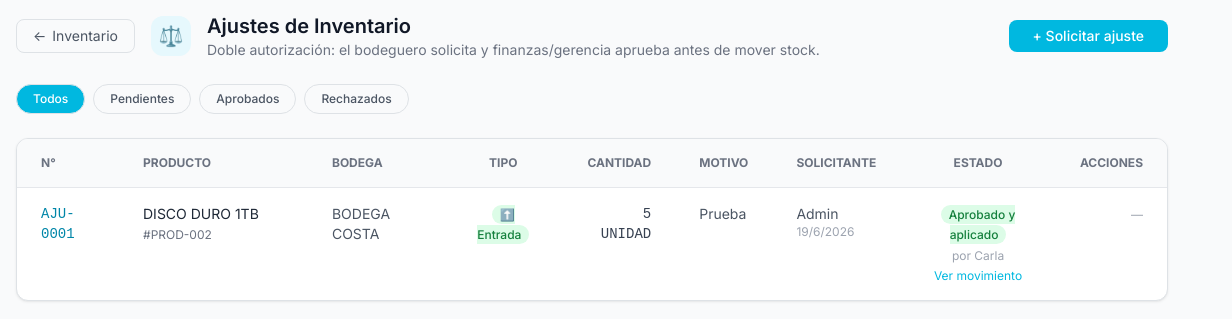
InventoryAdjustmentsPage › muestra un toast de error si el movimiento vinculado ya no existe (404)
Click the button "Ver movimiento" at {"x": 978, "y": 276}, box [934, 268, 1022, 284]
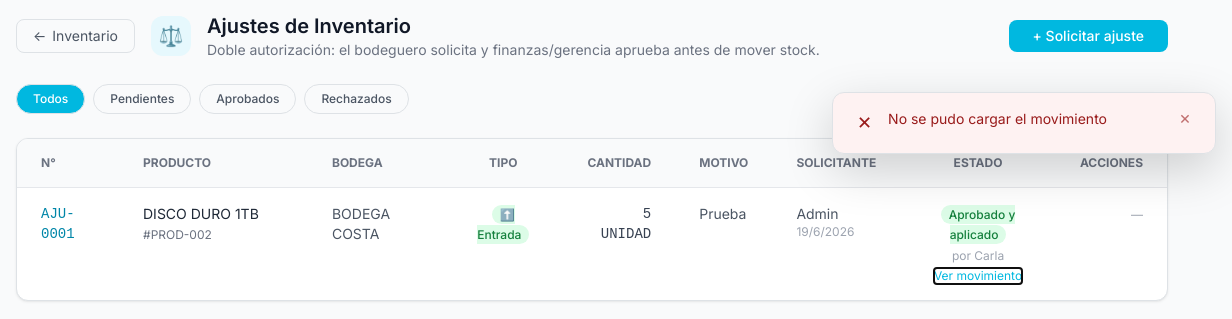
Expected: the text "AJU-0001" is shown, [17, 188, 119, 300]
Expected: the text "No se pudo cargar el movimiento" is shown, [888, 110, 1107, 127]
